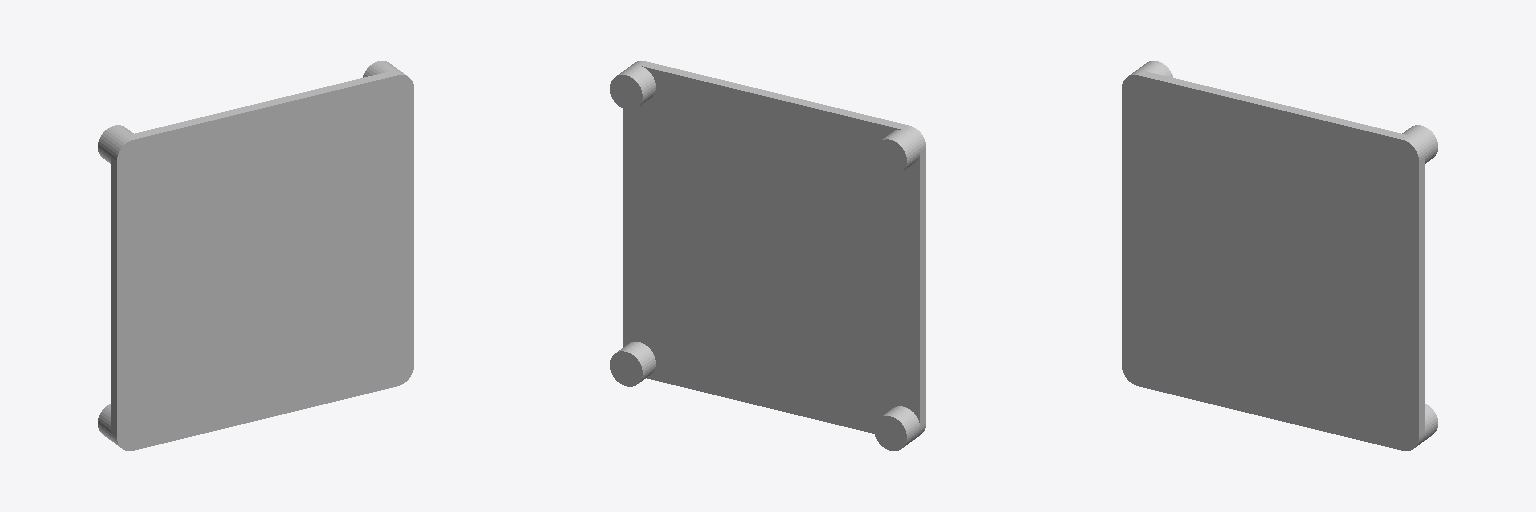
File: bracket_horizontal.obj
3 renders of one model, left to right at view 1: azimuth 30°, elevation 25°; view 2: azimuth 150°, elevation 25°; view 3: azimuth 330°, elevation 25°, orthographic.
Parts seen in each view (by area): view 1: obj1; view 2: obj1; view 3: obj1.
Boxes of the visible parts, <box> form: obj1: <box>98,61,413,450</box>; obj1: <box>610,61,925,450</box>; obj1: <box>1122,61,1437,450</box>.
Bounding box in the file's own units: 0.09 × 0.09 × 0.0101.